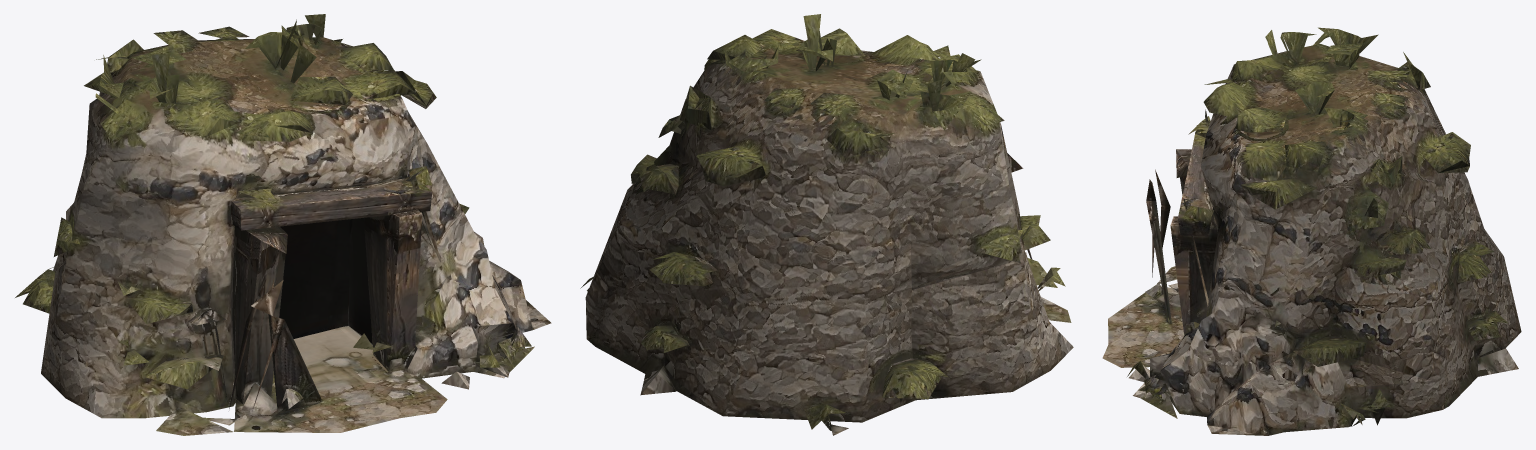
File: act1_extras_v1_delvings_mouth.glb
The picture shows the model from 3 angles, left to right: view 1: azimuth 30°, elevation 25°; view 2: azimuth 150°, elevation 25°; view 3: azimuth 270°, elevation 25°; orthographic projection. The views are drawn at different scales.
Parts seen in each view (by area): view 1: A18_3_delvings_mouth; view 2: A18_3_delvings_mouth; view 3: A18_3_delvings_mouth.
Part boxes in pixels (x1,y1,x2,y2): A18_3_delvings_mouth: (15,14,551,435); A18_3_delvings_mouth: (580,14,1073,435); A18_3_delvings_mouth: (1102,27,1521,435).
Size of the model in its own units: 0.9795 by 0.6733 by 0.9116.
1 material, 1 textured.
